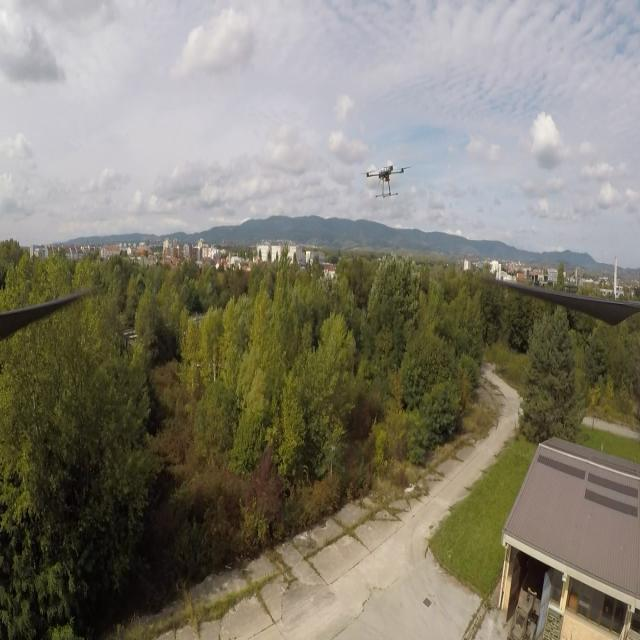UAV: (356, 154, 413, 205)
